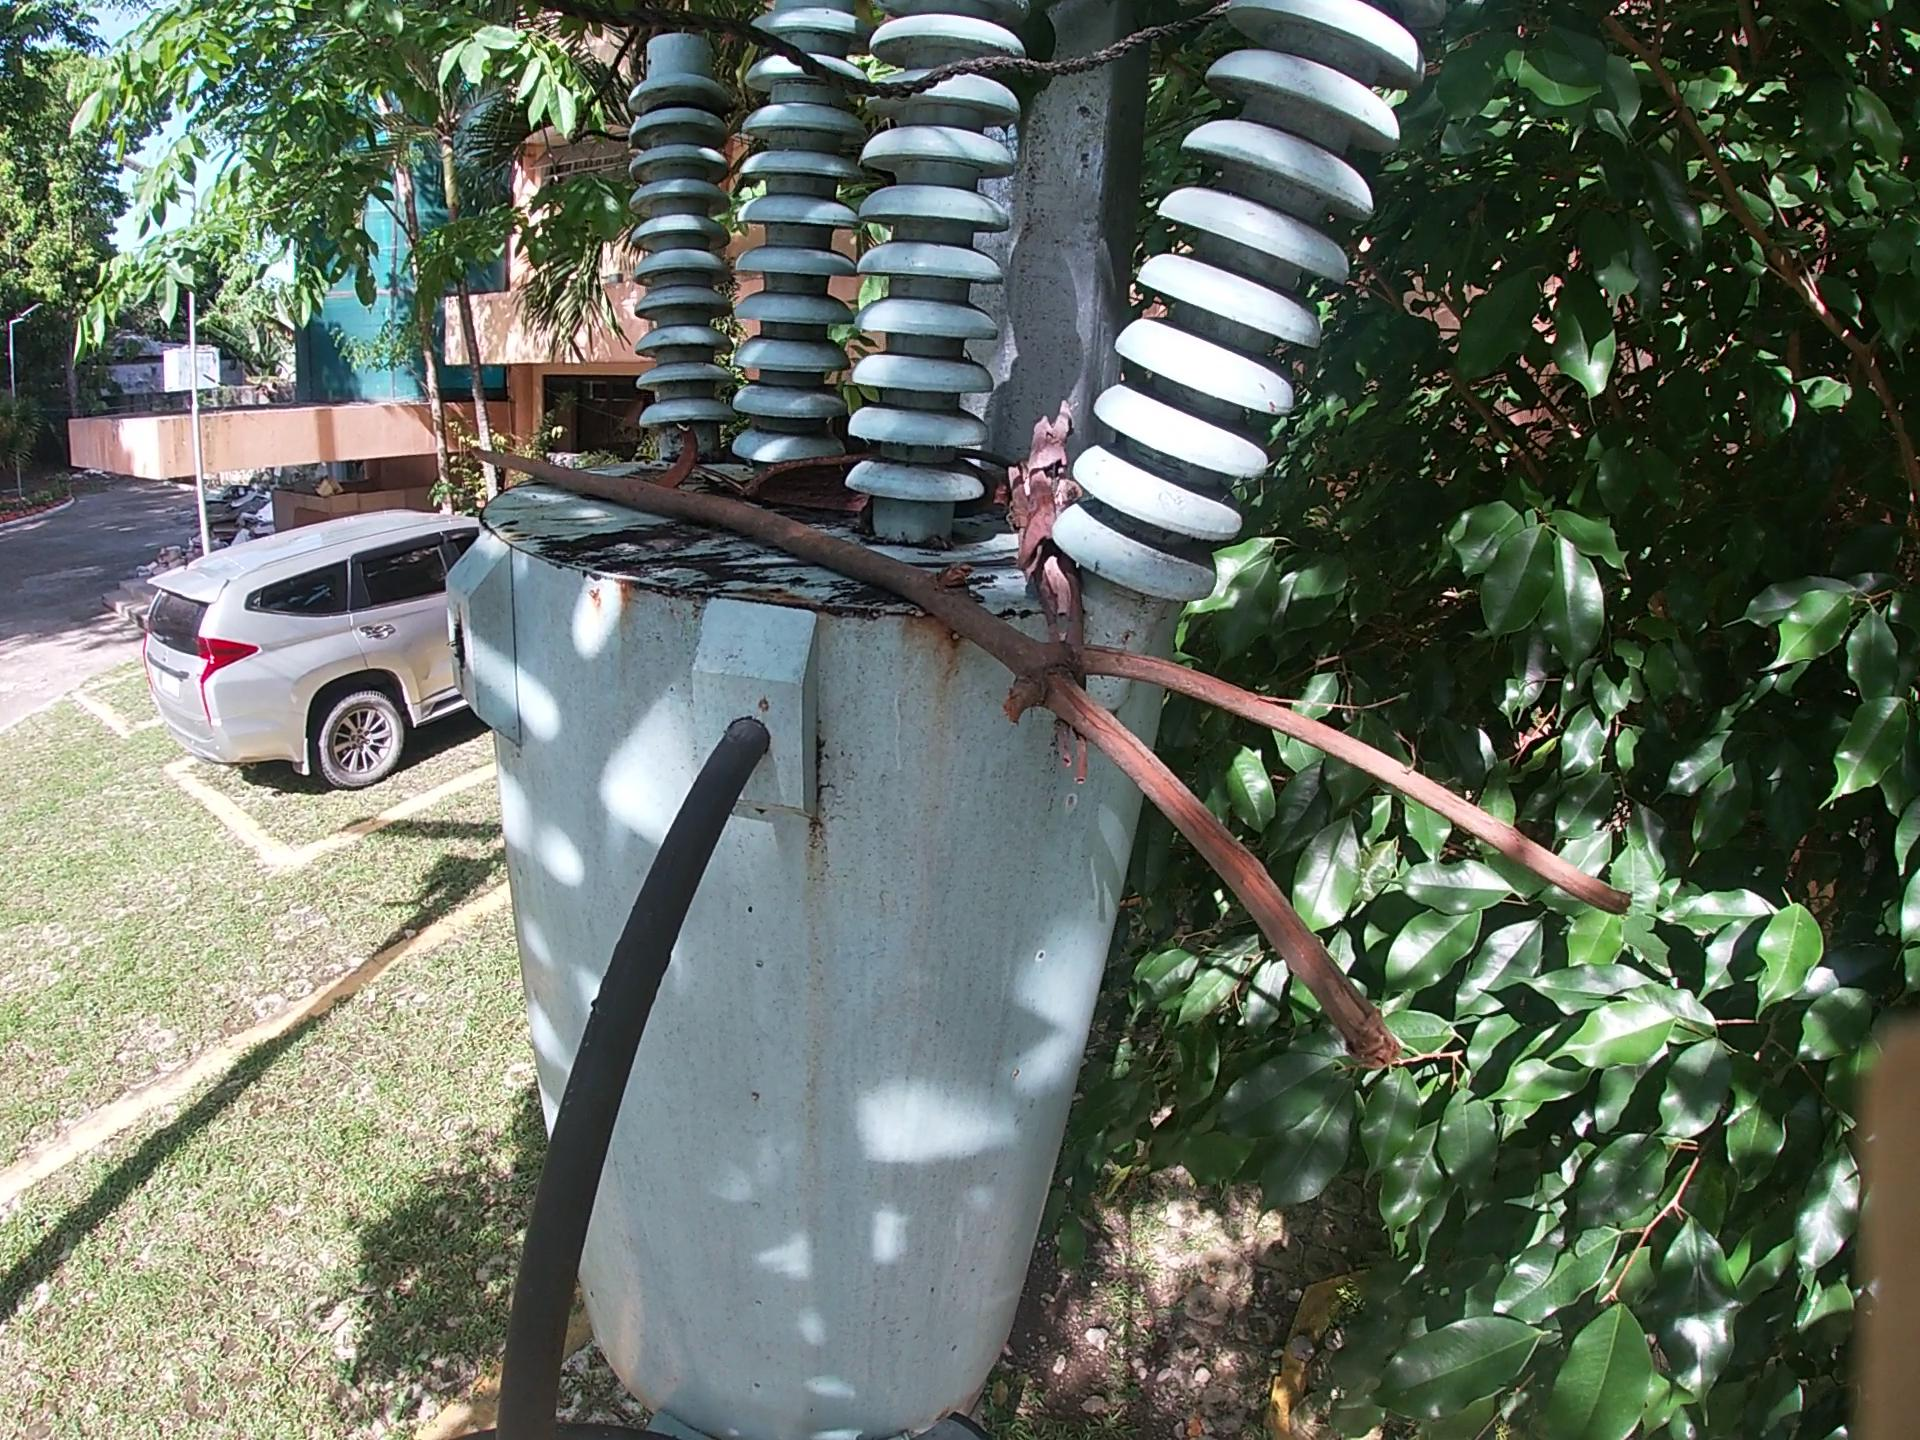mahogany fruit: (721, 458, 871, 513), (638, 424, 698, 486)
tree branch: (461, 437, 1683, 1088), (1014, 369, 1089, 808), (948, 451, 1027, 473)
